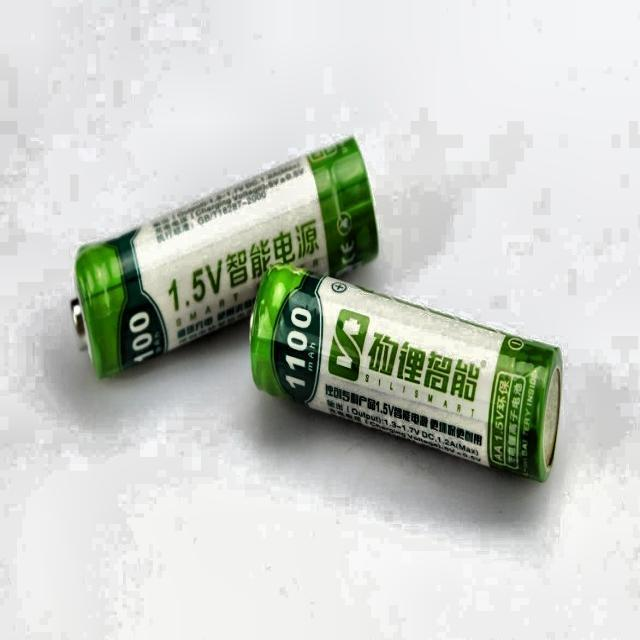battery: (74, 140, 378, 378), (251, 265, 561, 481)
